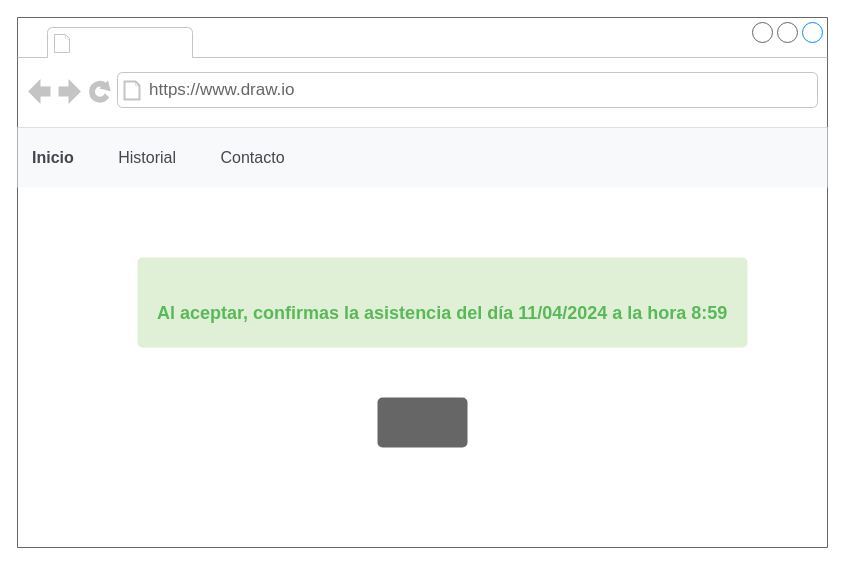
The diagram is 845 pixels wide and 565 high, and some of its shapes have lost their labels. The centre of each missing label's shape, as x and y in pixels:
"Confirmar" goes at (422,422).
"Page 1" goes at (132,42).
